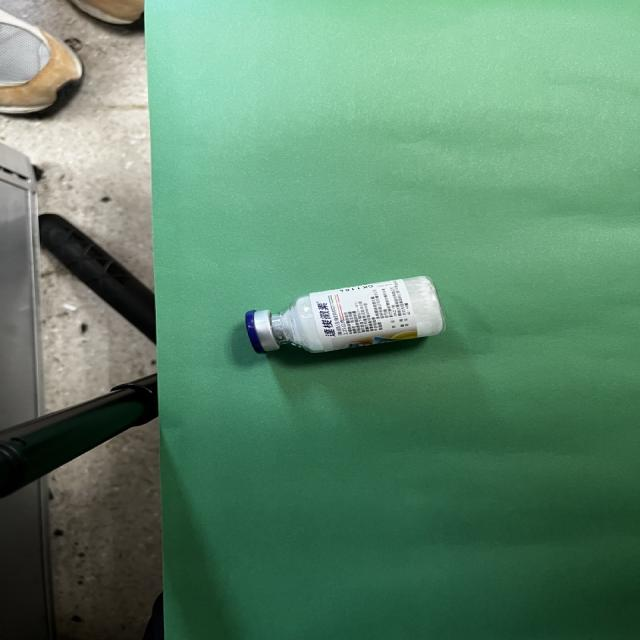Vials: (245, 276, 445, 354)
